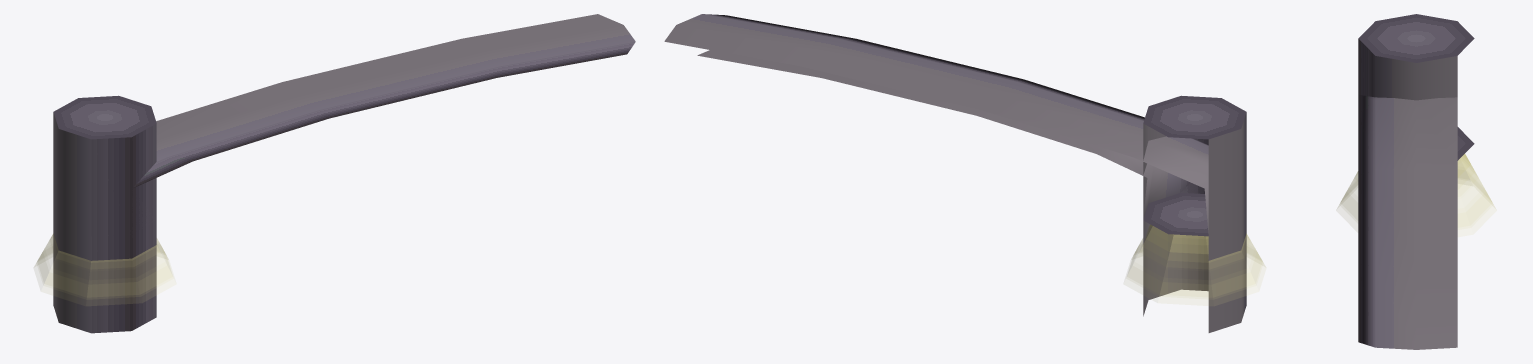
3 views of the same model, side by side, from view 1: azimuth 30°, elevation 25°; view 2: azimuth 150°, elevation 25°; view 3: azimuth 270°, elevation 25° (orthographic). The views are drawn at different scales.
Parts seen in each view (by area): view 1: 5243item2924; view 2: 5243item2924; view 3: 5243item2924.
Part boxes in pixels (x1=…): 5243item2924: x1=34, y1=14, x2=635, y2=333; 5243item2924: x1=664, y1=14, x2=1265, y2=332; 5243item2924: x1=1337, y1=14, x2=1495, y2=349.
Bounding box in the file's own units: 6.48 × 2 × 1.76.
Materials: 2 (2 with a texture image).
